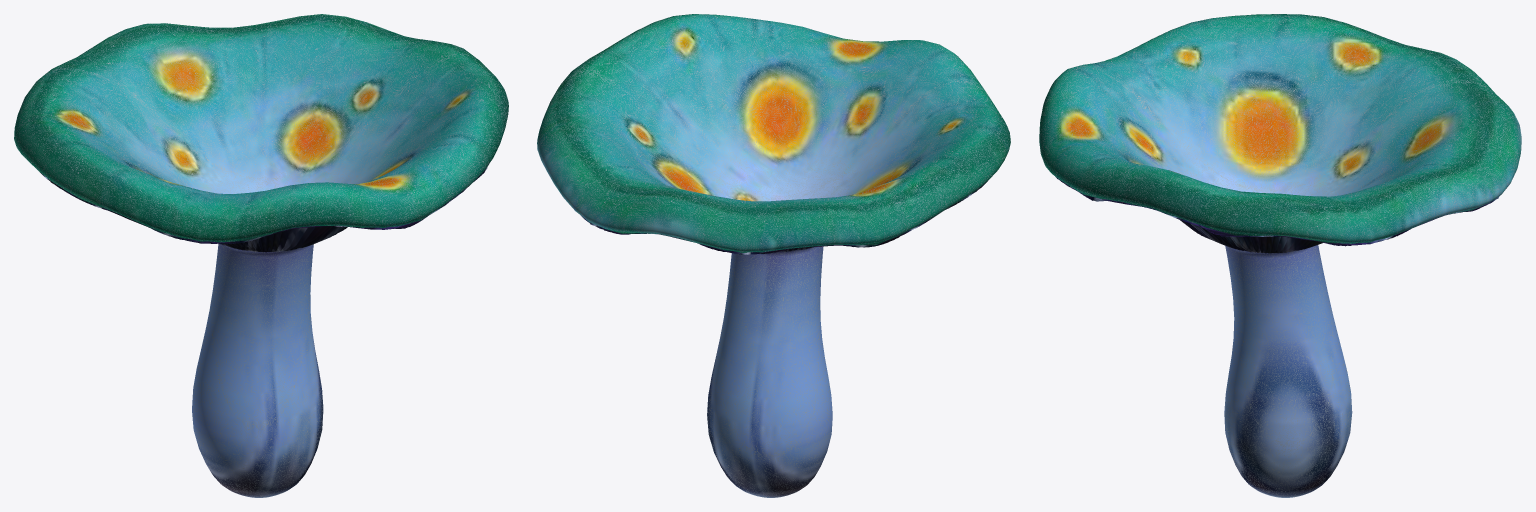
The model's file is mushroom.dae.
The picture shows the model from 3 angles, left to right: view 1: azimuth 30°, elevation 25°; view 2: azimuth 150°, elevation 25°; view 3: azimuth 270°, elevation 25°; orthographic projection. The views are drawn at different scales.
Visible parts, largest first — view 1: skp23 (×3); view 2: skp23 (×3); view 3: skp23 (×3).
Boxes of the visible parts, <box> form: skp23 (×3): <box>14,14,508,497</box>; skp23 (×3): <box>537,14,1010,497</box>; skp23 (×3): <box>1039,14,1521,497</box>.
Bounding box in the file's own units: 256 × 256 × 234.
Materials: 3 (1 with a texture image).
